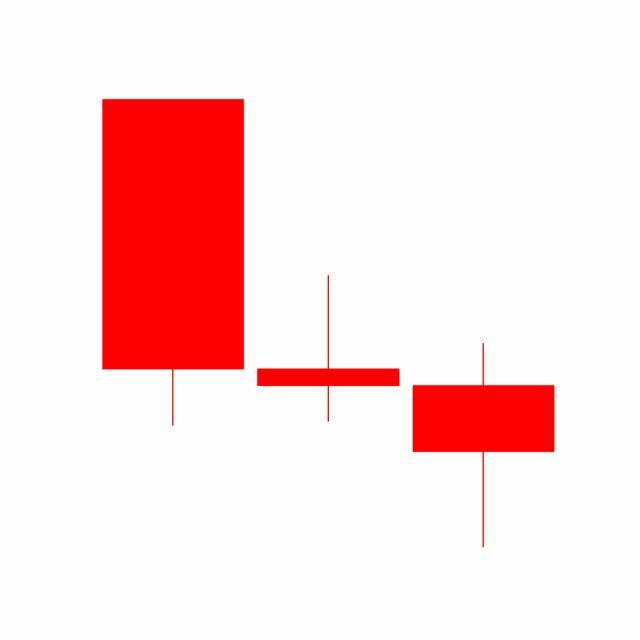Spinning Top: (250, 275, 407, 426)
